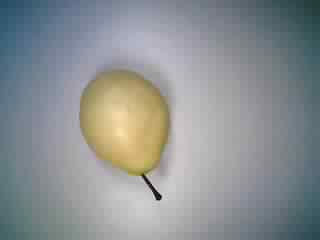pear: (75, 62, 179, 216)
